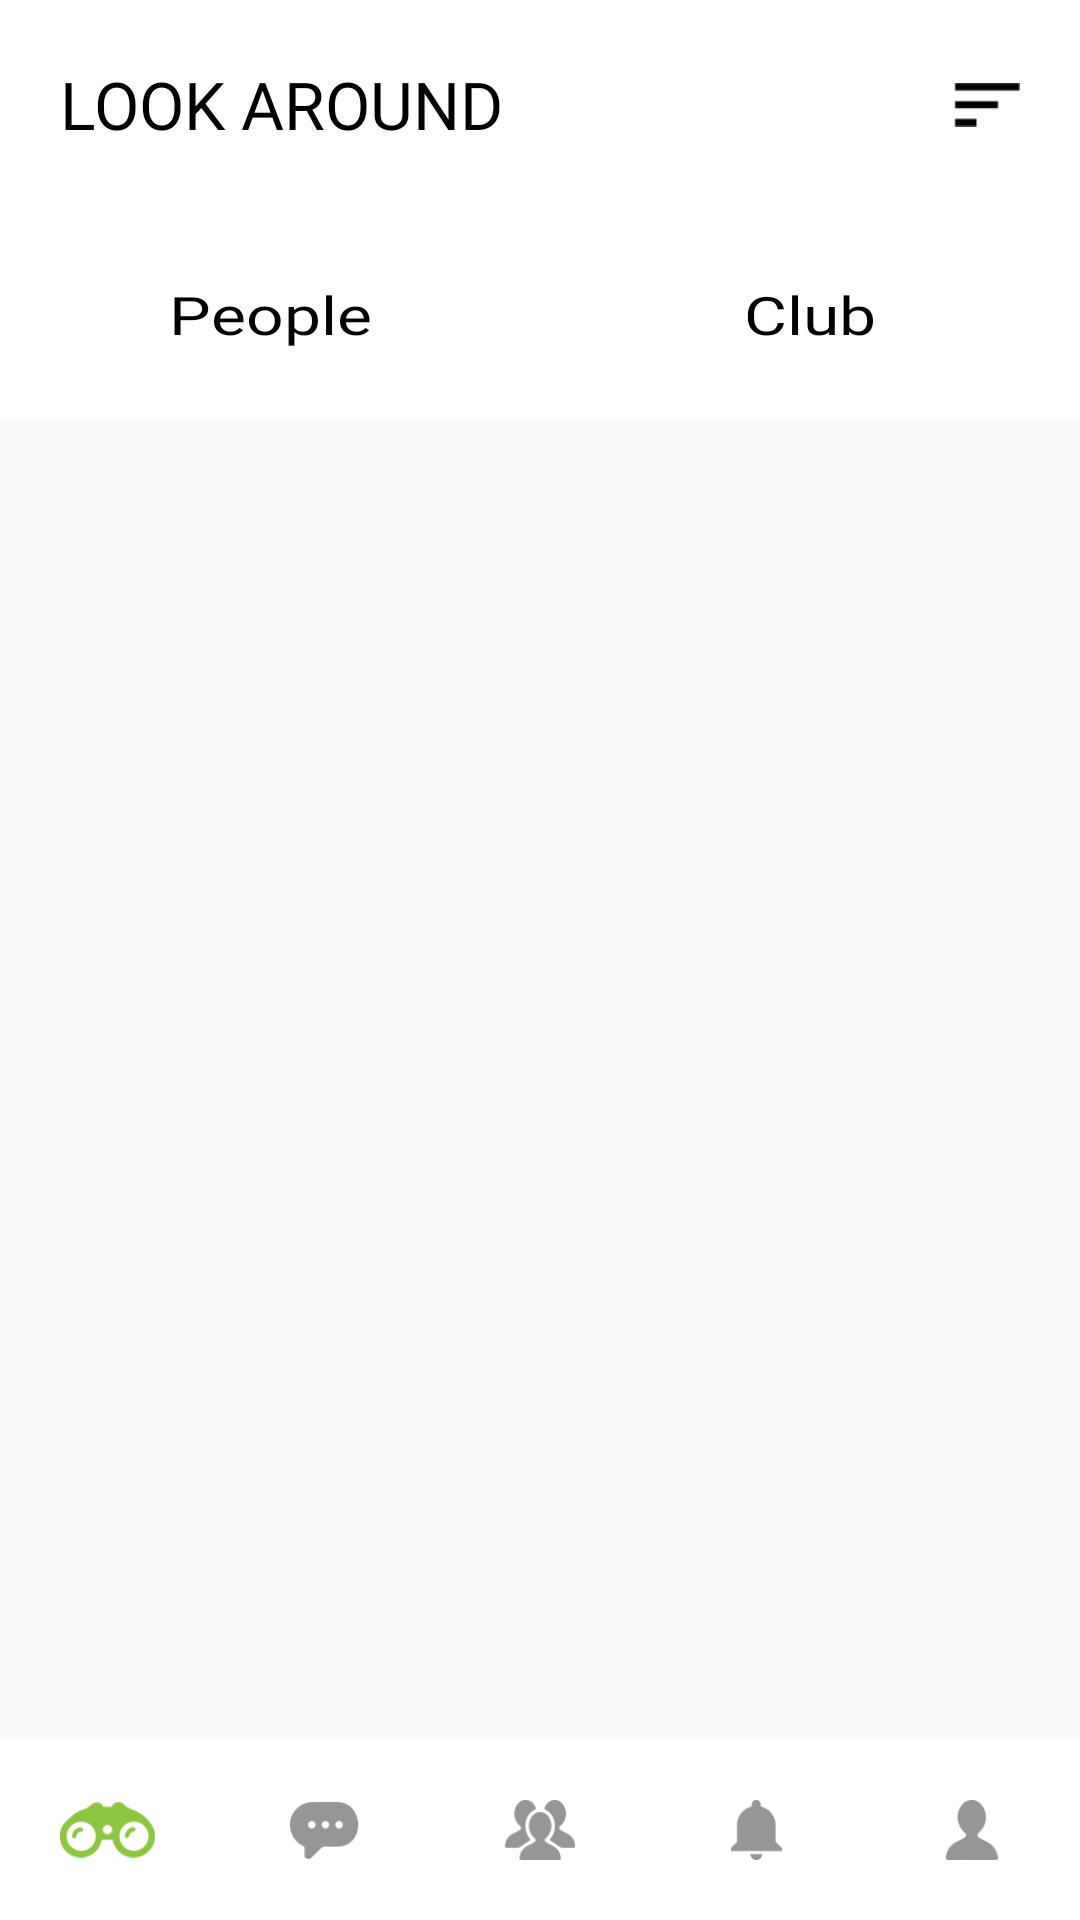

Screen size 1080*1920. Icon name, then its center in pixels as point (x, y):
icfindgreen: point (107, 1830)
icmessages: point (324, 1830)
icnotification: point (756, 1830)
icprofile: point (972, 1830)
menuicon: point (987, 105)
